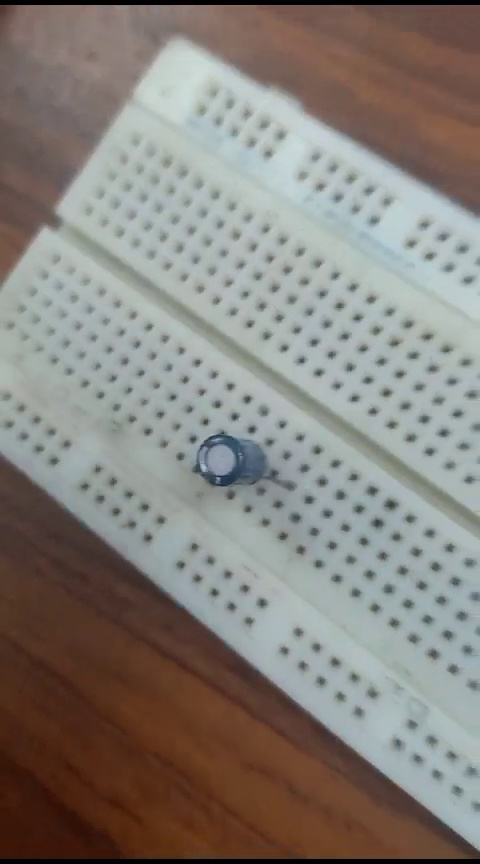capacitor: (190, 428, 322, 505)
